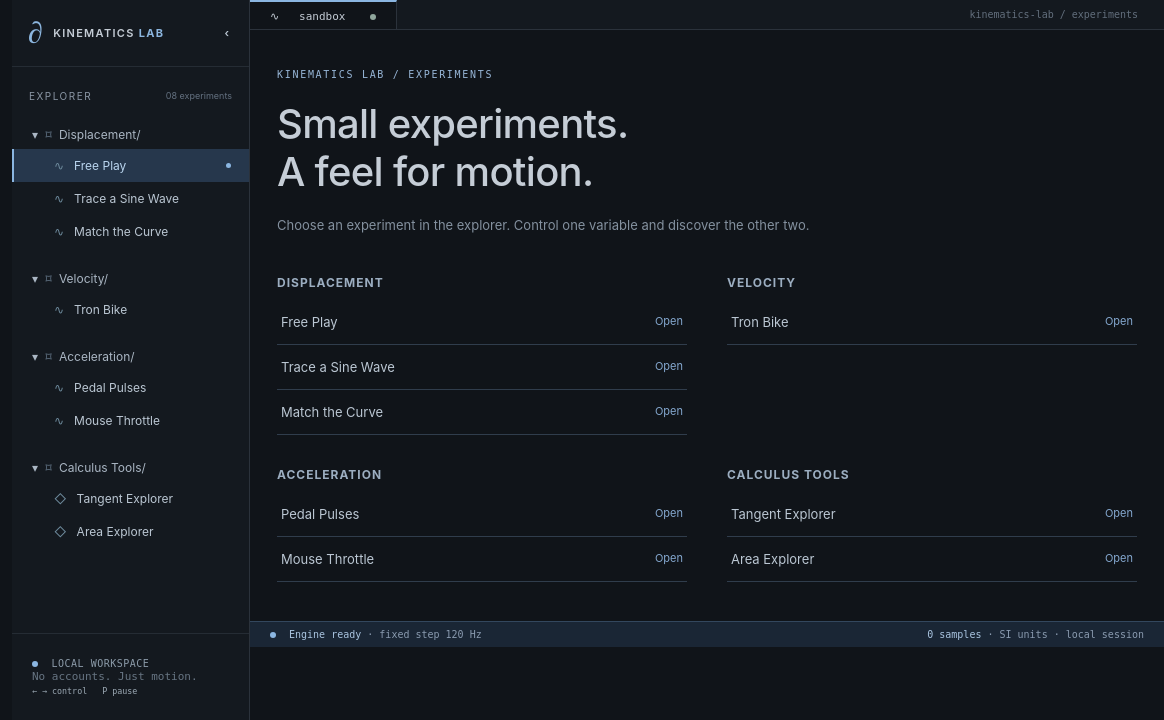
Test: stable countdown structure › retains the same scene, control nodes, and graph containers at GO: Tron Bike
Click the button "∿ Tron Bike": (130, 310) [12, 293, 249, 326]
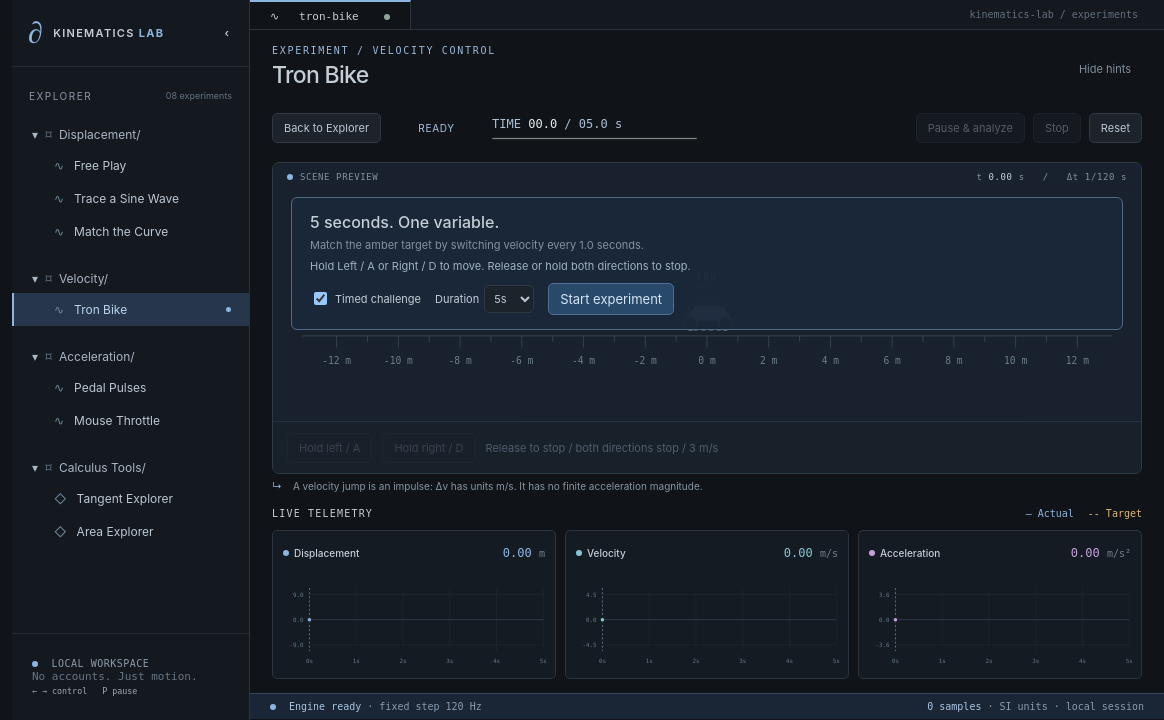
Click the button "Start experiment": (611, 298) [548, 282, 674, 314]
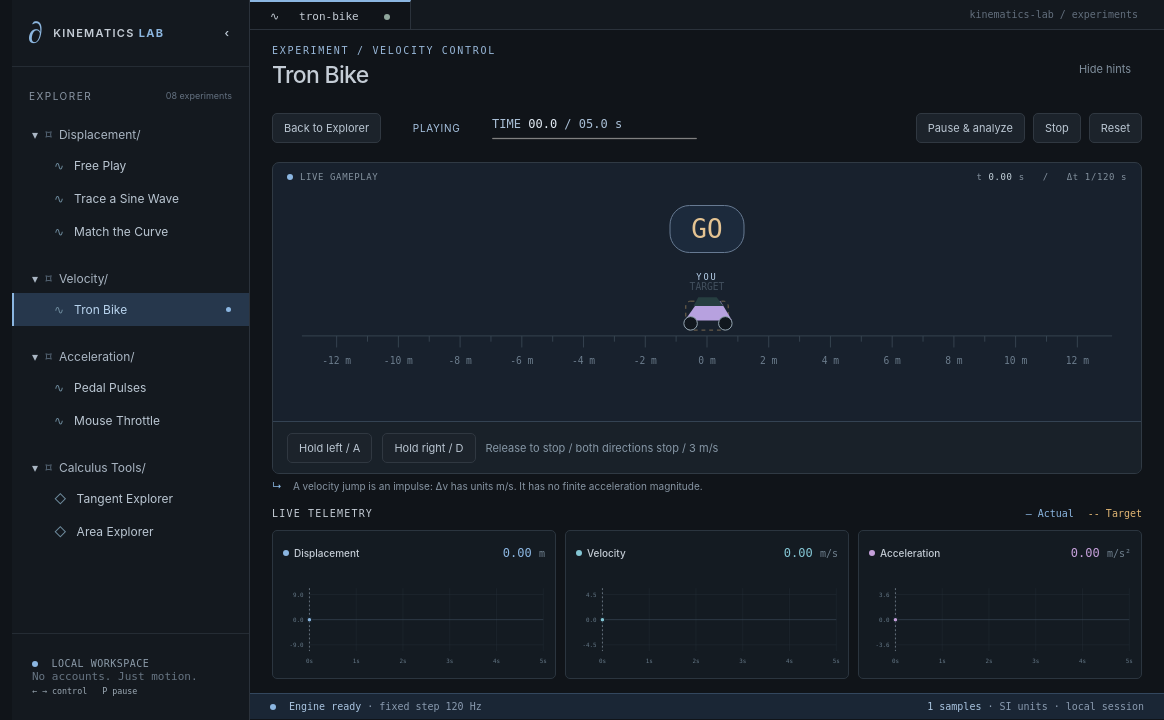
Check: the element with class "game-stage" is shown
Check: the message with class "countdown" reads "GO", box [691, 214, 723, 244]
Check: the element that starts with "Hold left / A" is enabled, box [273, 421, 1141, 473]
